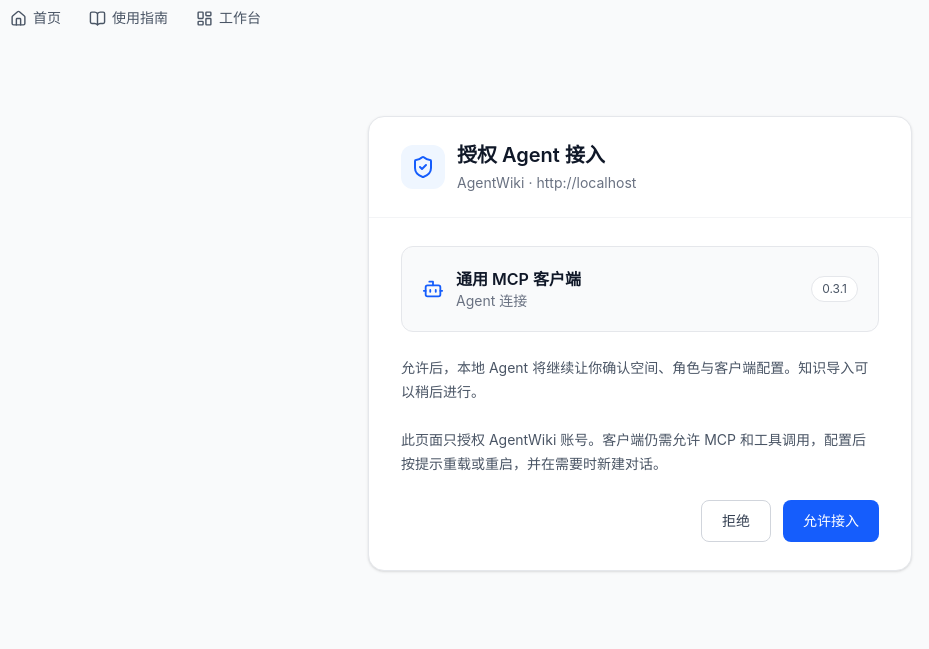
it: OnboardDevicePage › authorizes the zh-CN generic client and explains host permission separately
Expected: the text "通用 MCP 客户端" is shown, [456,267,581,291]
Expected: the text "此页面只授权 AgentWiki 账号。客户端仍需允许 MCP 和工具调用，配置后按提示重载或重启，并在需要时新建对话。" is shown, [401,428,879,476]
Click the button "允许接入": (831, 521) [783,500,879,542]
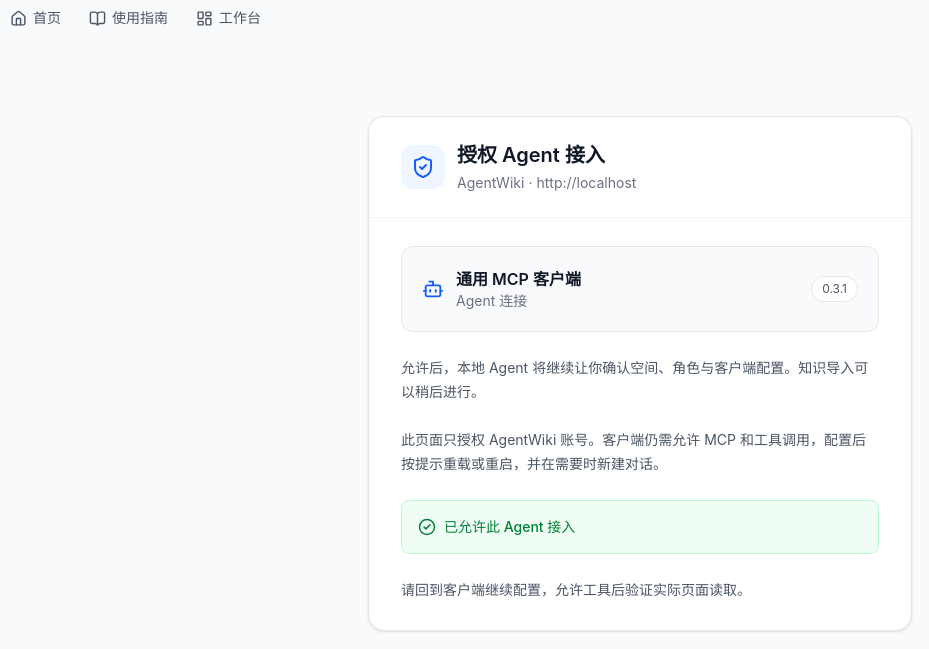
Now the text "已允许此 Agent 接入" is shown, box [401,500,879,554]
Now the text "请回到客户端继续配置，允许工具后验证实际页面读取。" is shown, box [401,581,751,598]
